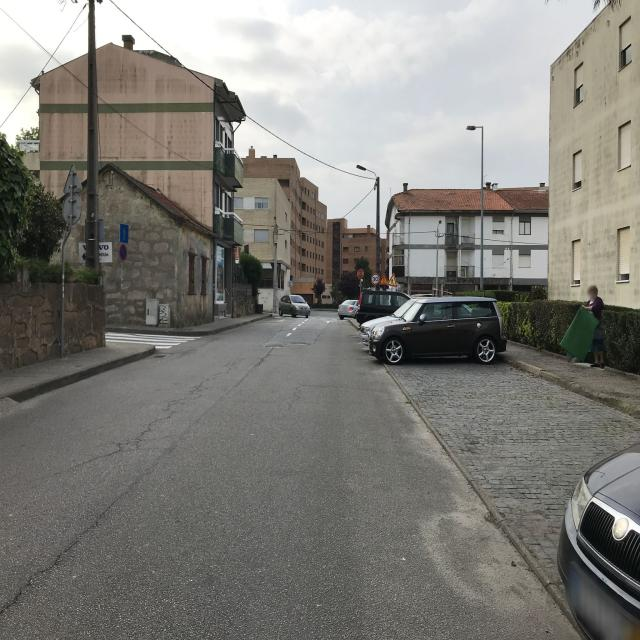car: (557, 426, 640, 638), (363, 295, 507, 365), (355, 288, 412, 331), (278, 294, 311, 318), (338, 299, 359, 319)
